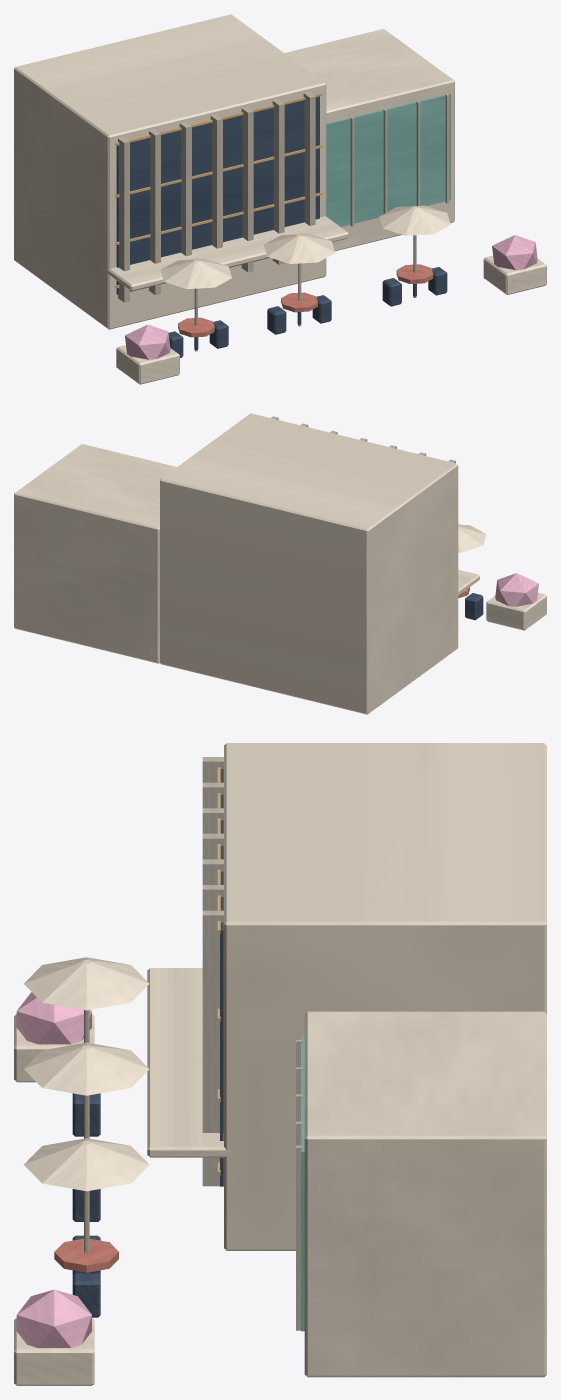
The model's file is white-waterway.glb.
The picture shows the model from 3 angles, top to bottom: view 1: azimuth 30°, elevation 25°; view 2: azimuth 150°, elevation 25°; view 3: azimuth 270°, elevation 25°; orthographic projection. The views are drawn at different scales.
Visible parts, largest first — view 1: white-waterway; view 2: white-waterway; view 3: white-waterway.
Part boxes in pixels (left/top/right/bottom): white-waterway: left=14, top=14, right=546, bottom=384; white-waterway: left=14, top=413, right=546, bottom=714; white-waterway: left=14, top=743, right=546, bottom=1385.
Bounding box in the file's own units: 9.9 × 4.55 × 6.6.
1 material, 1 textured.
